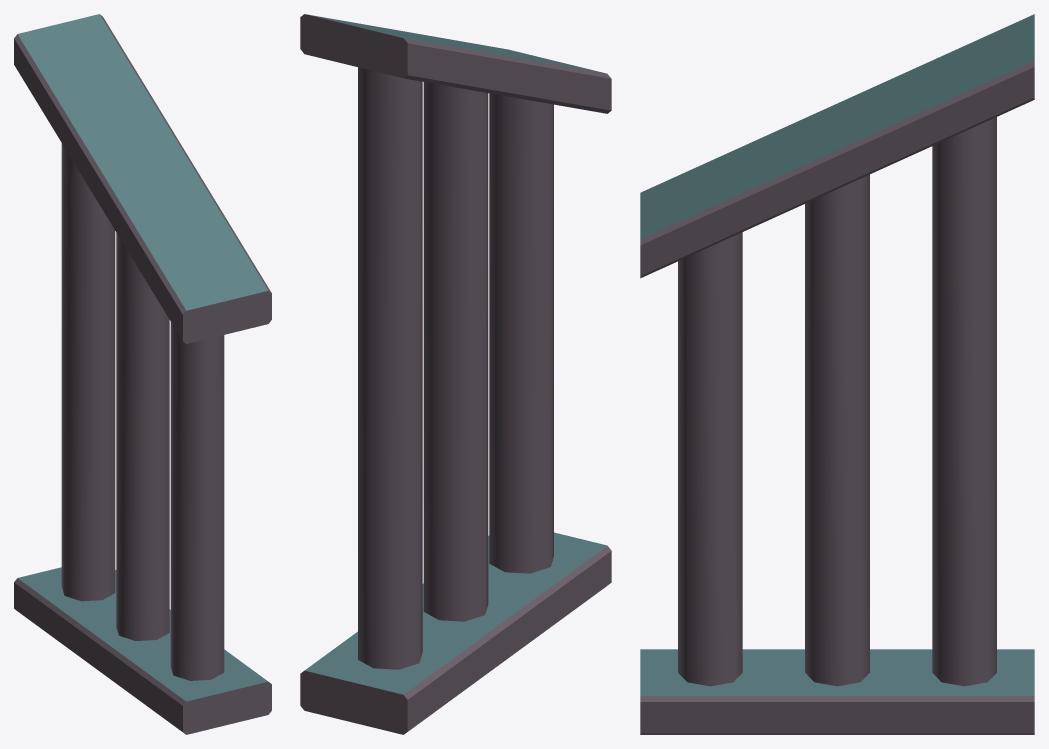
Rendered from GB_146_railing_slope.glb.
3 views of the same model, side by side, from view 1: azimuth 30°, elevation 25°; view 2: azimuth 150°, elevation 25°; view 3: azimuth 270°, elevation 25° (orthographic). The views are drawn at different scales.
Visible parts, largest first — view 1: RailingSlope; view 2: RailingSlope; view 3: RailingSlope.
Part boxes in pixels (left/top/right/bottom): RailingSlope: left=14, top=14, right=271, bottom=734; RailingSlope: left=300, top=14, right=611, bottom=734; RailingSlope: left=640, top=14, right=1034, bottom=734.
Bounding box in the file's own units: 0.2286 × 1.42 × 0.752.
